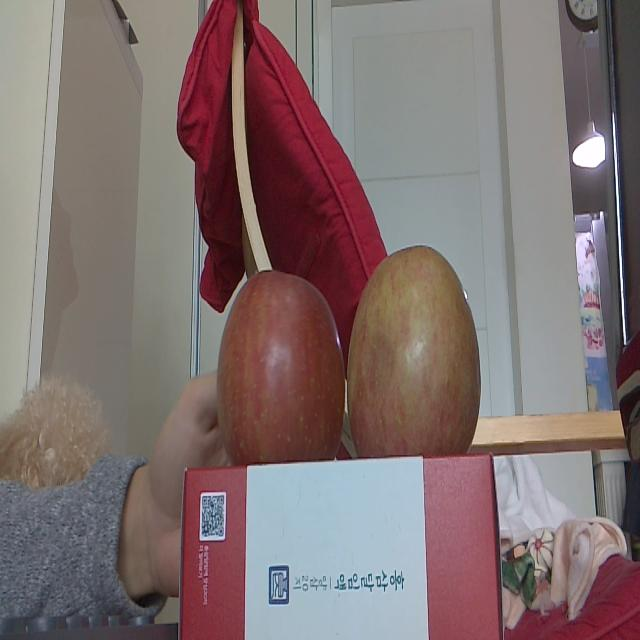apple: (347, 246, 481, 455), (217, 271, 343, 458)
